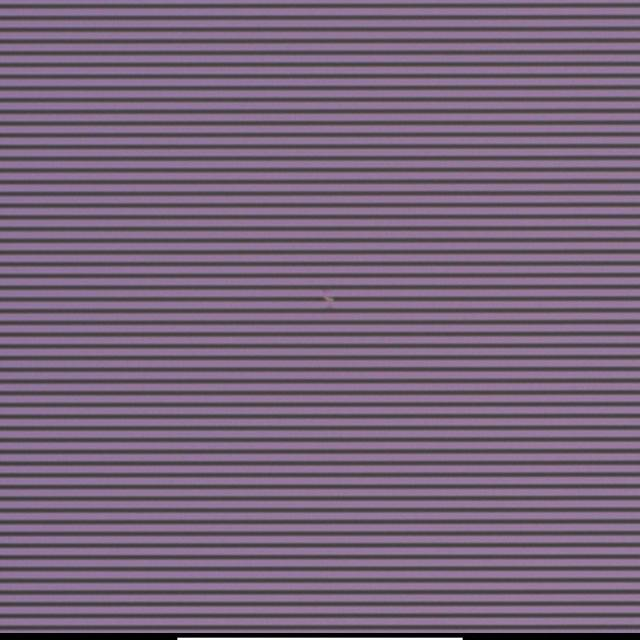03_intrusion: (310, 290, 338, 312)
